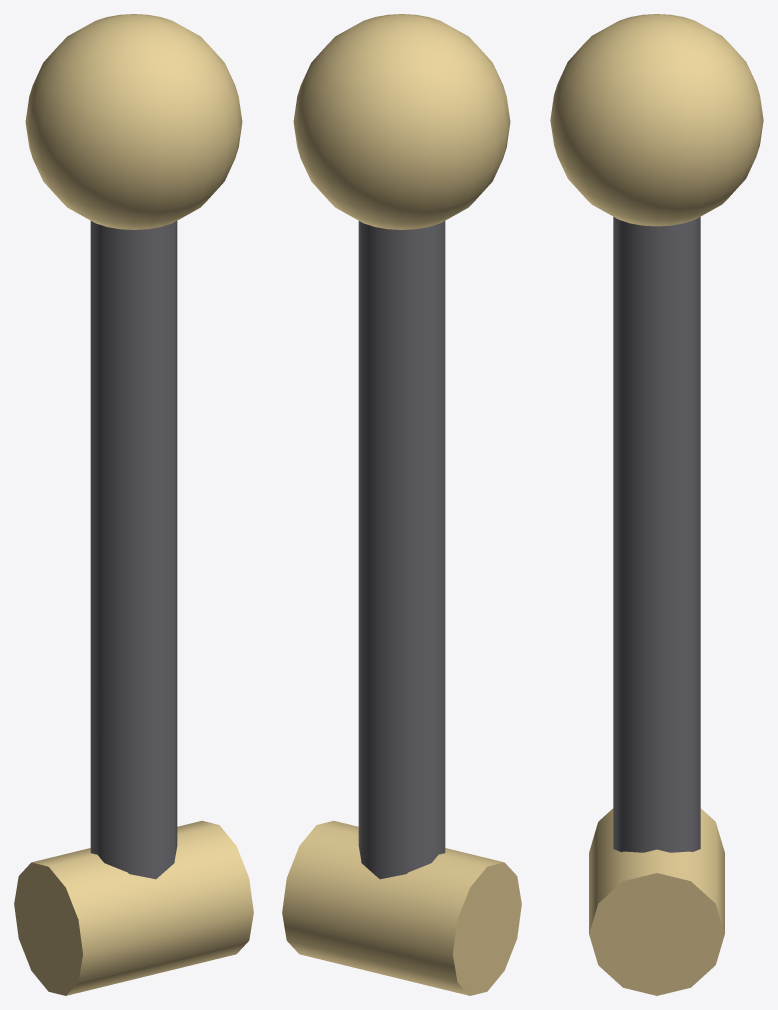
File: AlavancaBraco.fbx
3 renders of one model, left to right at view 1: azimuth 30°, elevation 25°; view 2: azimuth 150°, elevation 25°; view 3: azimuth 270°, elevation 25°, orthographic.
Parts seen in each view (by area): view 1: AlavancaBraco; view 2: AlavancaBraco; view 3: AlavancaBraco.
Part boxes in pixels (x1,y1,x2,y2): AlavancaBraco: [14, 14, 253, 995]; AlavancaBraco: [282, 14, 521, 995]; AlavancaBraco: [550, 14, 763, 995].
Bounding box in the file's own units: 0.22 × 1.06 × 0.22.
